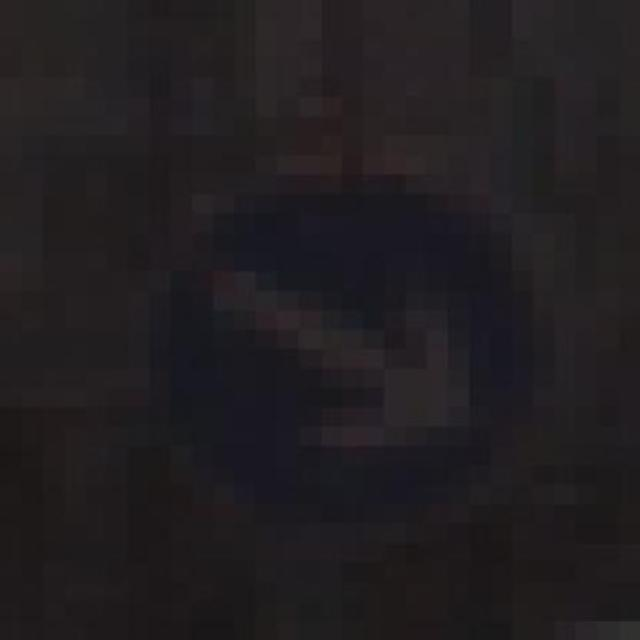Keep-Right: (149, 136, 534, 504)
